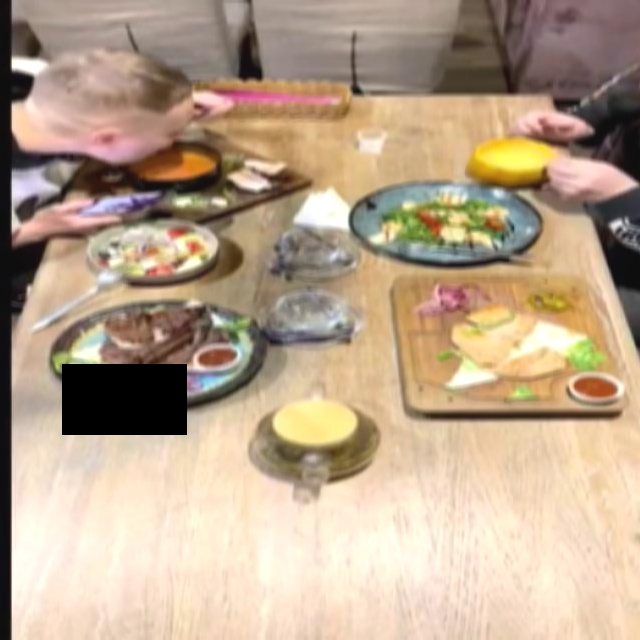meat: (384, 274, 626, 425), (45, 299, 269, 408)
salad: (350, 182, 544, 265), (84, 218, 219, 283)
soup: (65, 135, 314, 230), (466, 136, 559, 187)
tea: (235, 376, 390, 513)
